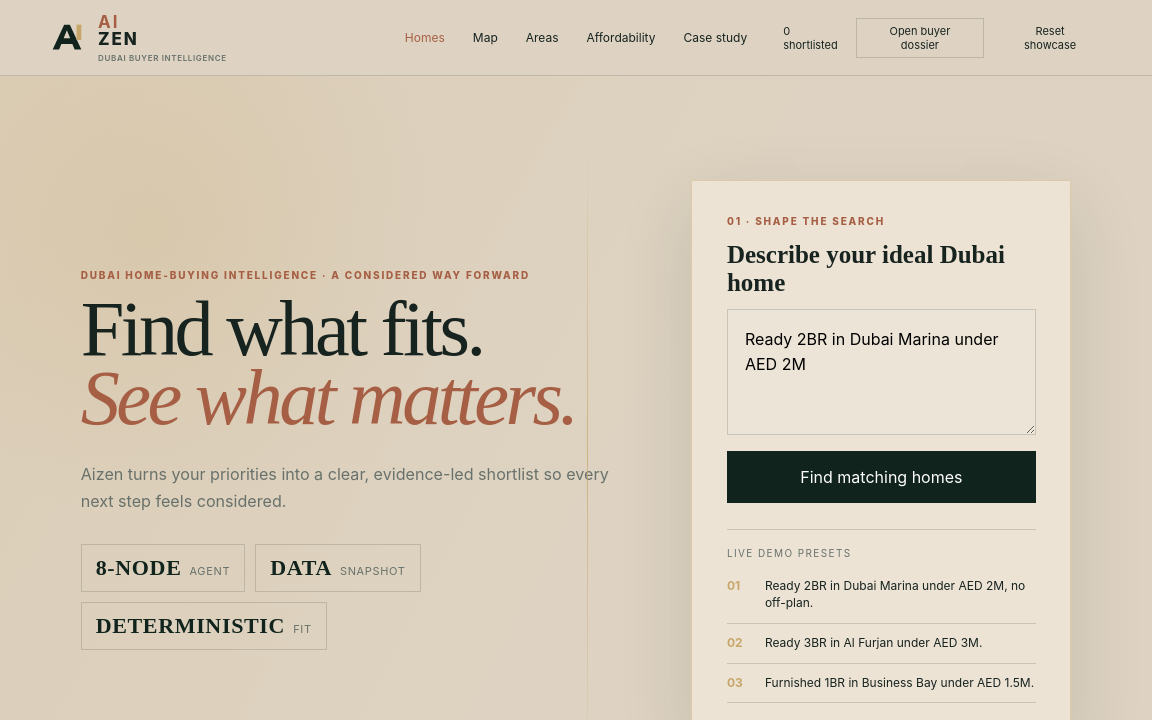
Test: navigation switches workspace and scrolls its heading below the header
Click the button "Areas" at (542,38), box top-left (514, 20), bottom-right (570, 55)
(page scrolled)
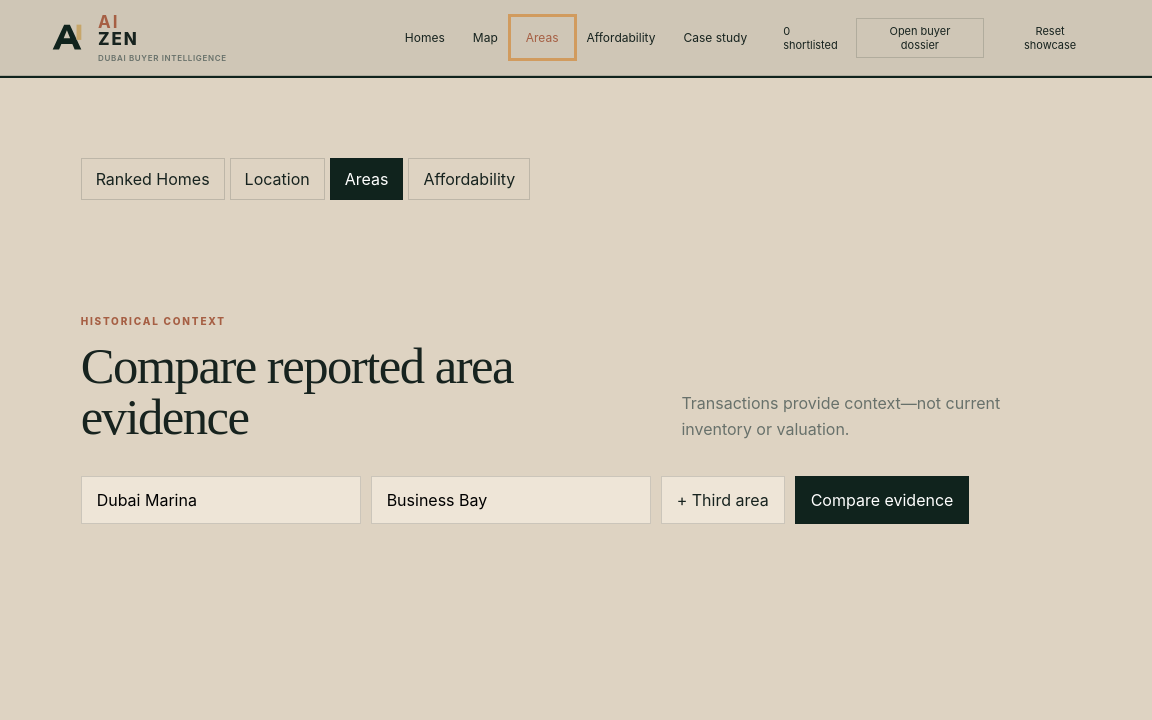
Now the heading "Compare reported area evidence" is shown, box top-left (81, 338), bottom-right (513, 445)
